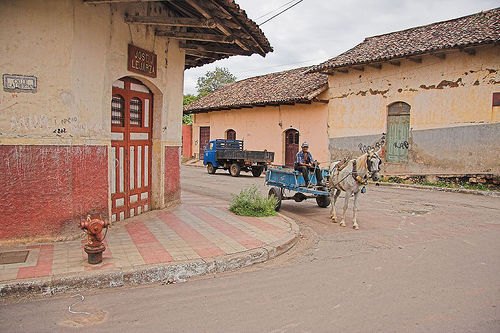horse: (327, 141, 386, 229)
